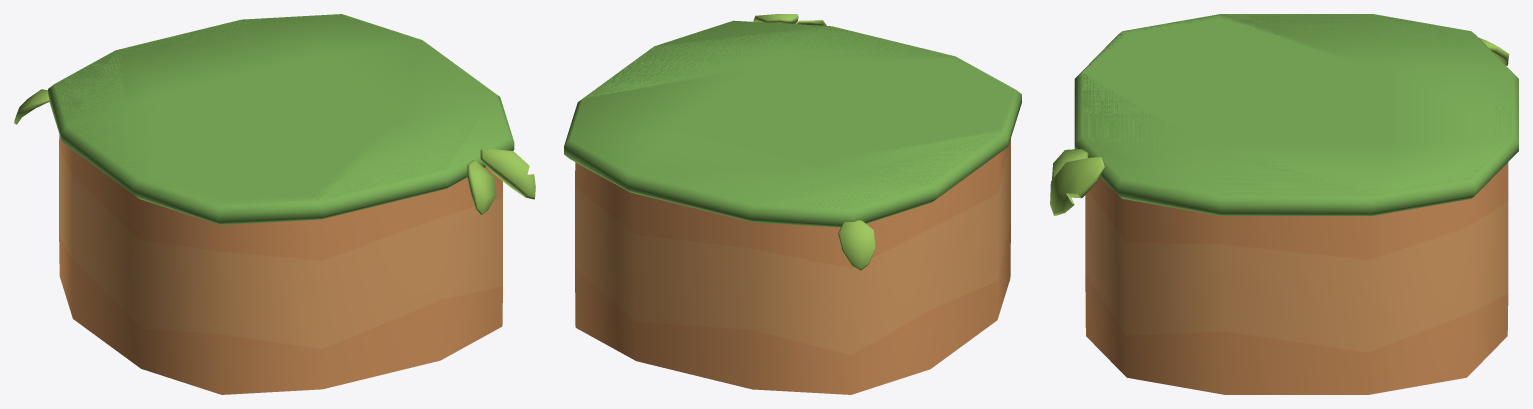
File: ground 01.fbx
3 views of the same model, side by side, from view 1: azimuth 30°, elevation 25°; view 2: azimuth 150°, elevation 25°; view 3: azimuth 270°, elevation 25° (orthographic). The views are drawn at different scales.
Parts seen in each view (by area): view 1: ground 01, ground 01 low; view 2: ground 01, ground 01 low; view 3: ground 01, ground 01 low.
Boxes of the visible parts, <box> form: ground 01: <box>14,14,535,394</box>; ground 01 low: <box>54,14,492,205</box>; ground 01: <box>564,14,1021,394</box>; ground 01 low: <box>570,26,1015,208</box>; ground 01: <box>1050,14,1518,394</box>; ground 01 low: <box>1081,14,1511,195</box>.
Bounding box in the file's own units: 206 × 105 × 218.
Materials: 1 (1 with a texture image).
